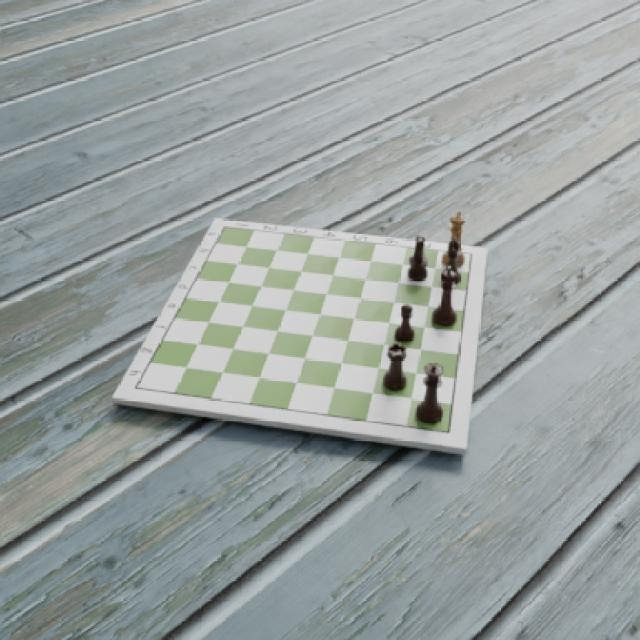black-bishop: (441, 234, 463, 285)
black-king: (430, 264, 458, 327)
black-knight: (407, 234, 429, 281)
black-pawn: (394, 304, 415, 344)
black-queen: (413, 362, 443, 426)
black-rook: (380, 342, 407, 393)
white-king: (440, 210, 467, 269)
